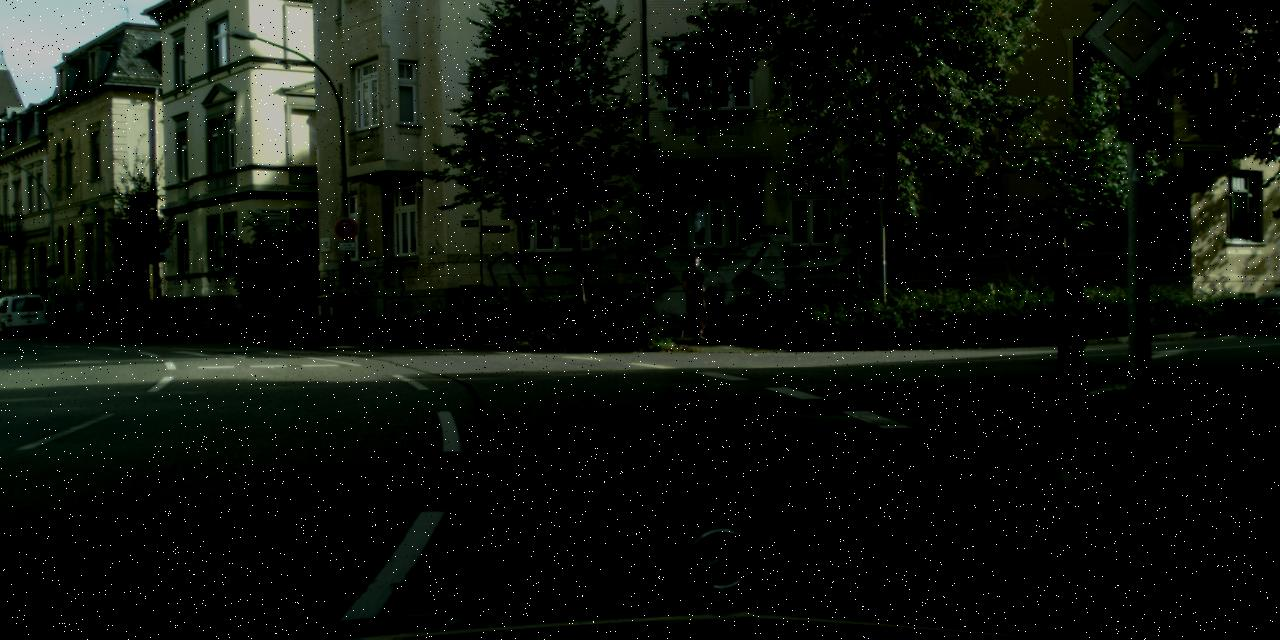ped: (1044, 246, 1096, 373), (676, 256, 709, 336)
